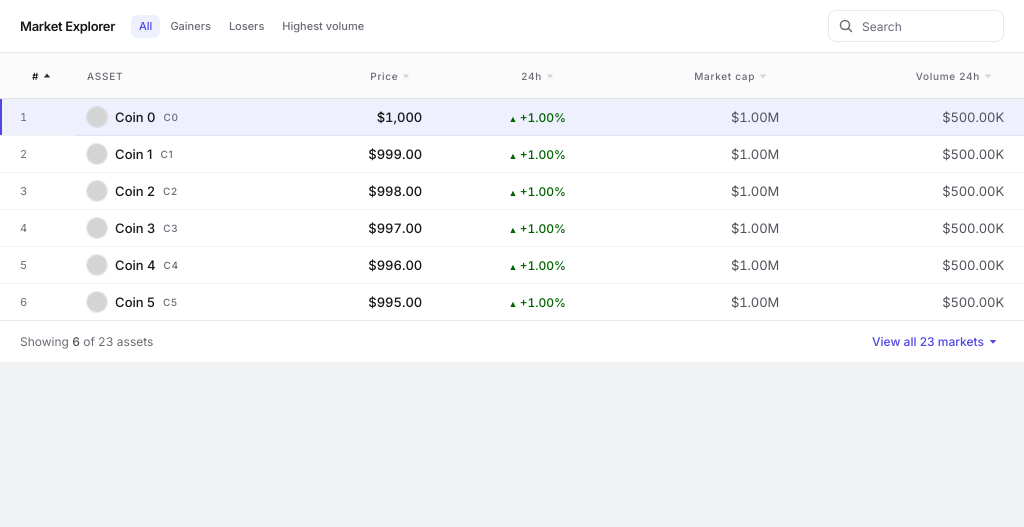
Test: market explorer preview › reaches every asset once expanded
What coordinates should you click on to do the following:
click the button "View all 23 markets"
I would click on:
 (935, 342)
Its box is x1=866 y1=329 x2=1004 y2=354.
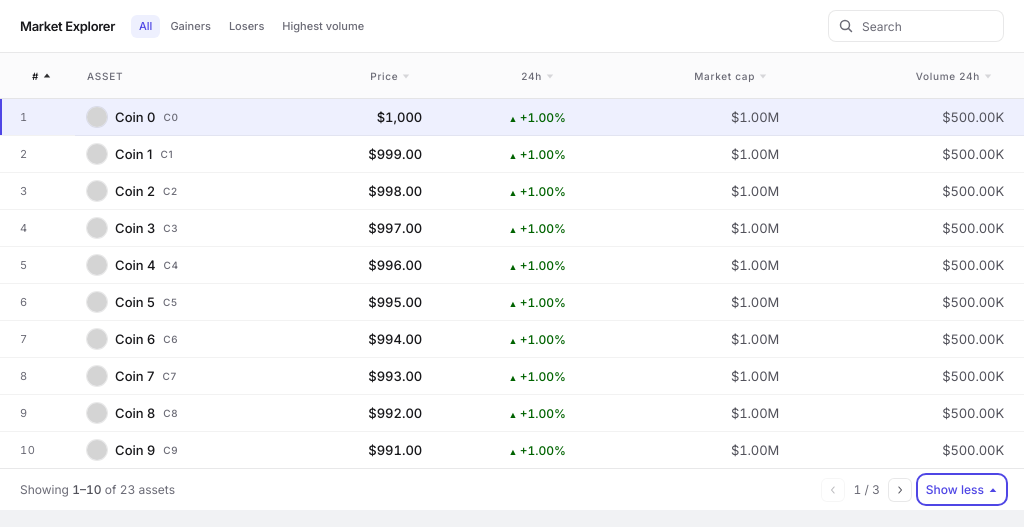
What coordinates should you click on to do the following:
click the button named "next page"
I would click on:
 (900, 490)
Its box is x1=888 y1=478 x2=912 y2=502.
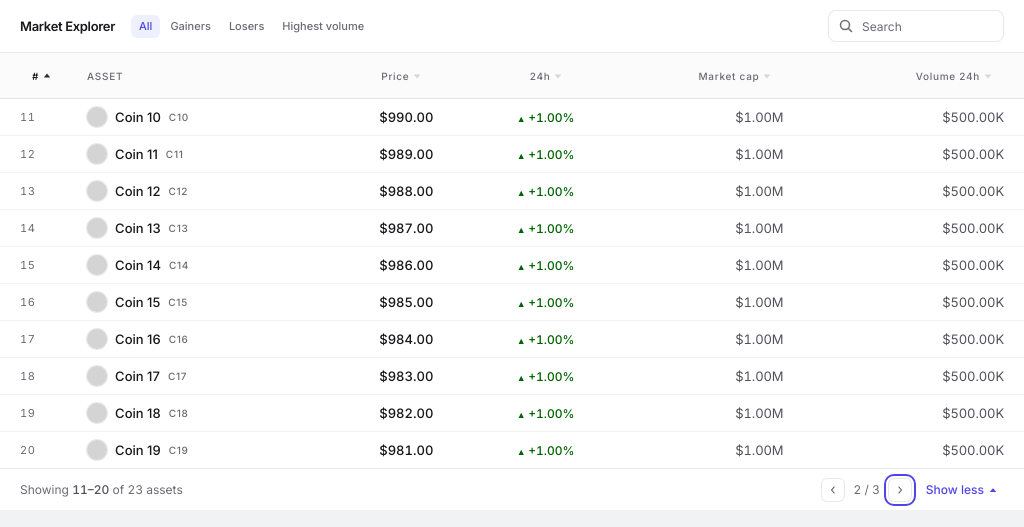
What coordinates should you click on to do the following:
click the button named "next page"
I would click on:
 (900, 490)
Its box is x1=888 y1=478 x2=912 y2=502.
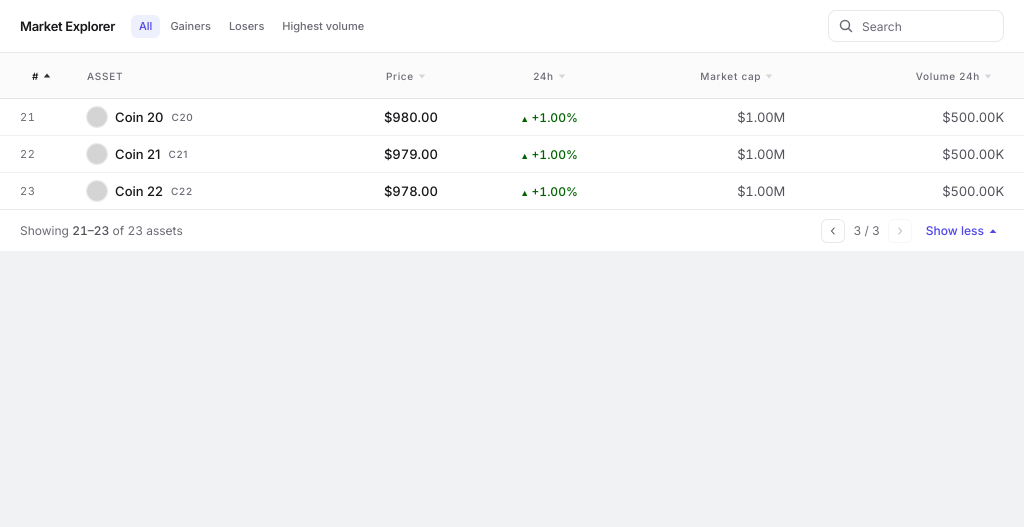
Expected: the text "Coin 22" is shown, x1=115 y1=182 x2=163 y2=200
